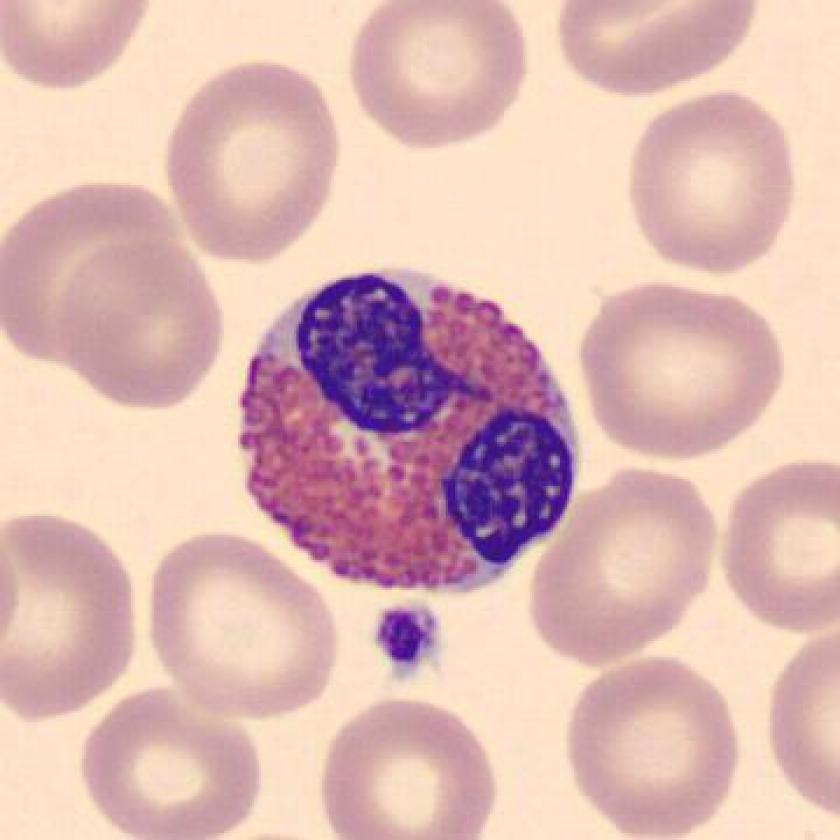eosinophil: (230, 256, 589, 610)
